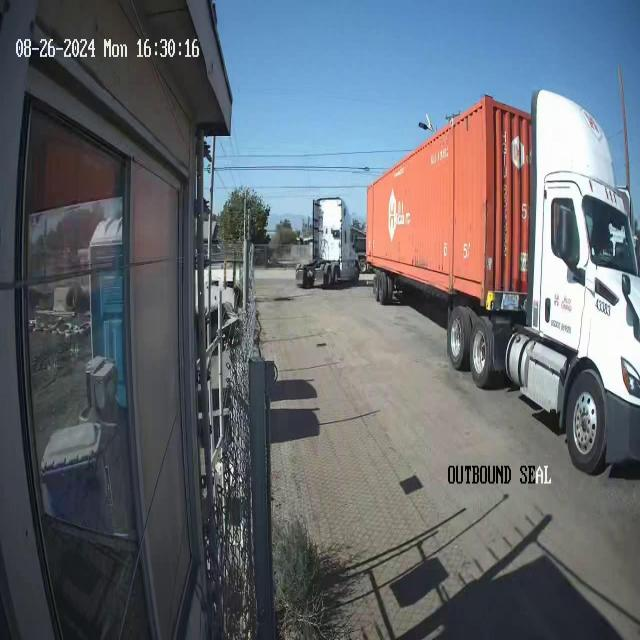TRUCK_IN: (365, 83, 639, 476)
TRUCK_OUT: (295, 192, 353, 294)
